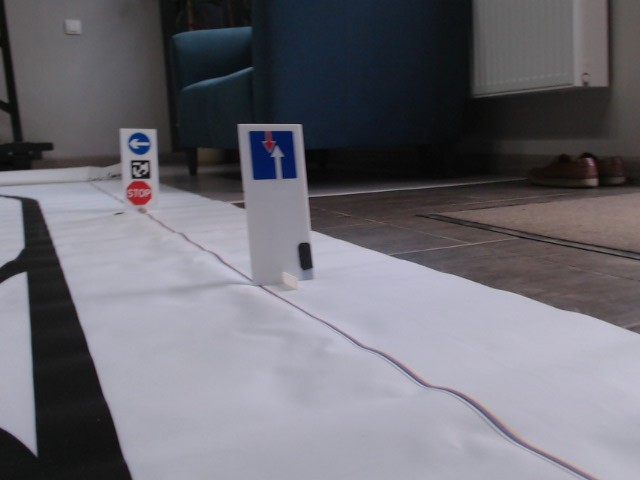Stop: (124, 180, 152, 205)
priority_movement: (247, 129, 298, 181)
